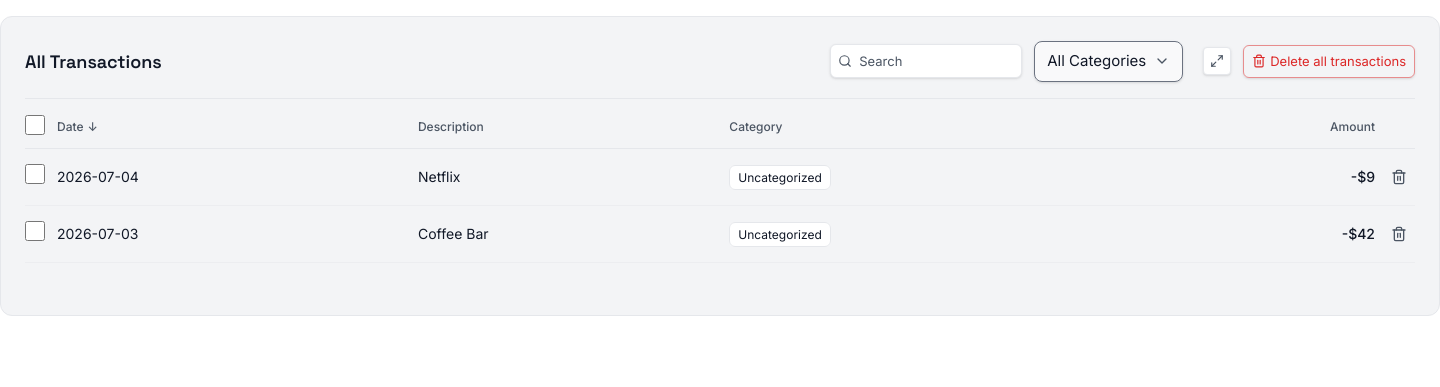
TransactionListWidget bulk actions › shows how many rows are selected once one is ticked
Click the checkbox named "Select transaction" next to "2026-07-04": (35,174) [25,164,45,184]
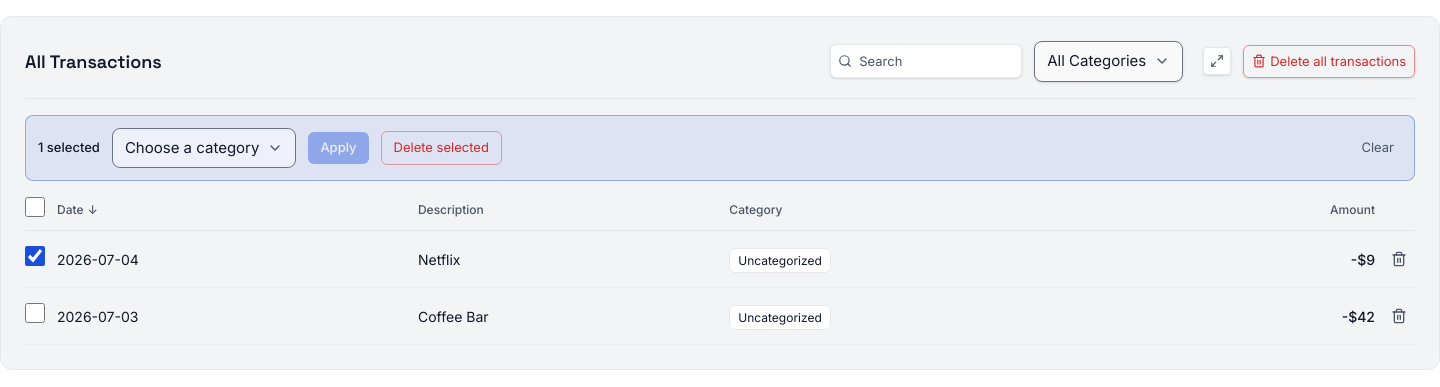
expect the text "1 selected" is shown: met, box [38,138,100,158]
